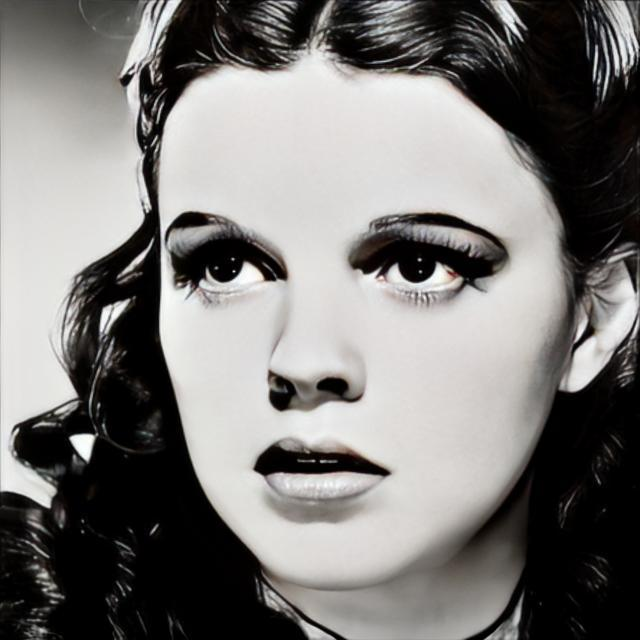neutral: (155, 47, 565, 594)
